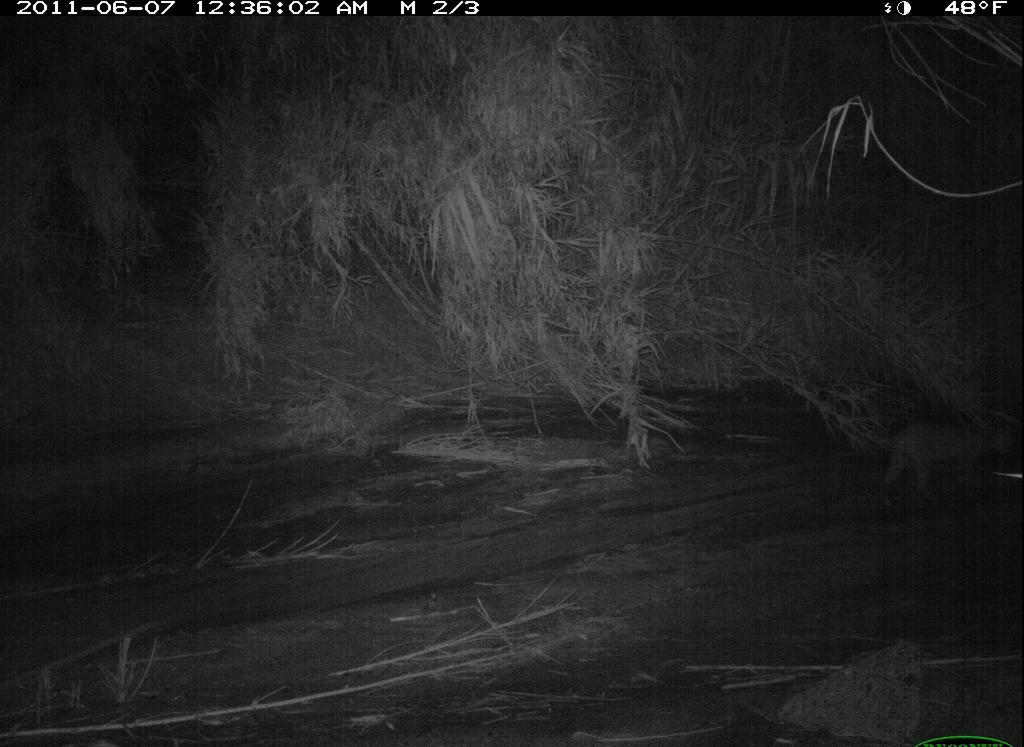bobcat: (872, 414, 1018, 516)
